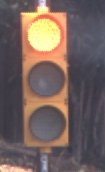Red: (12, 4, 79, 153)
